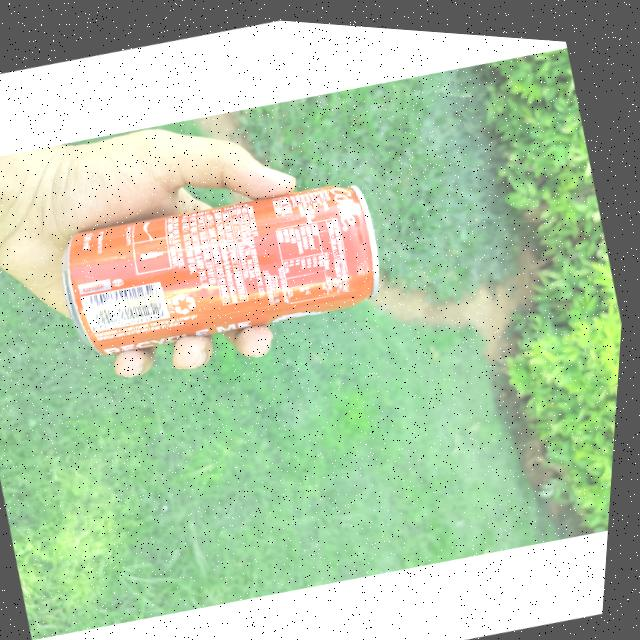Coca Cola: (43, 144, 406, 390)
